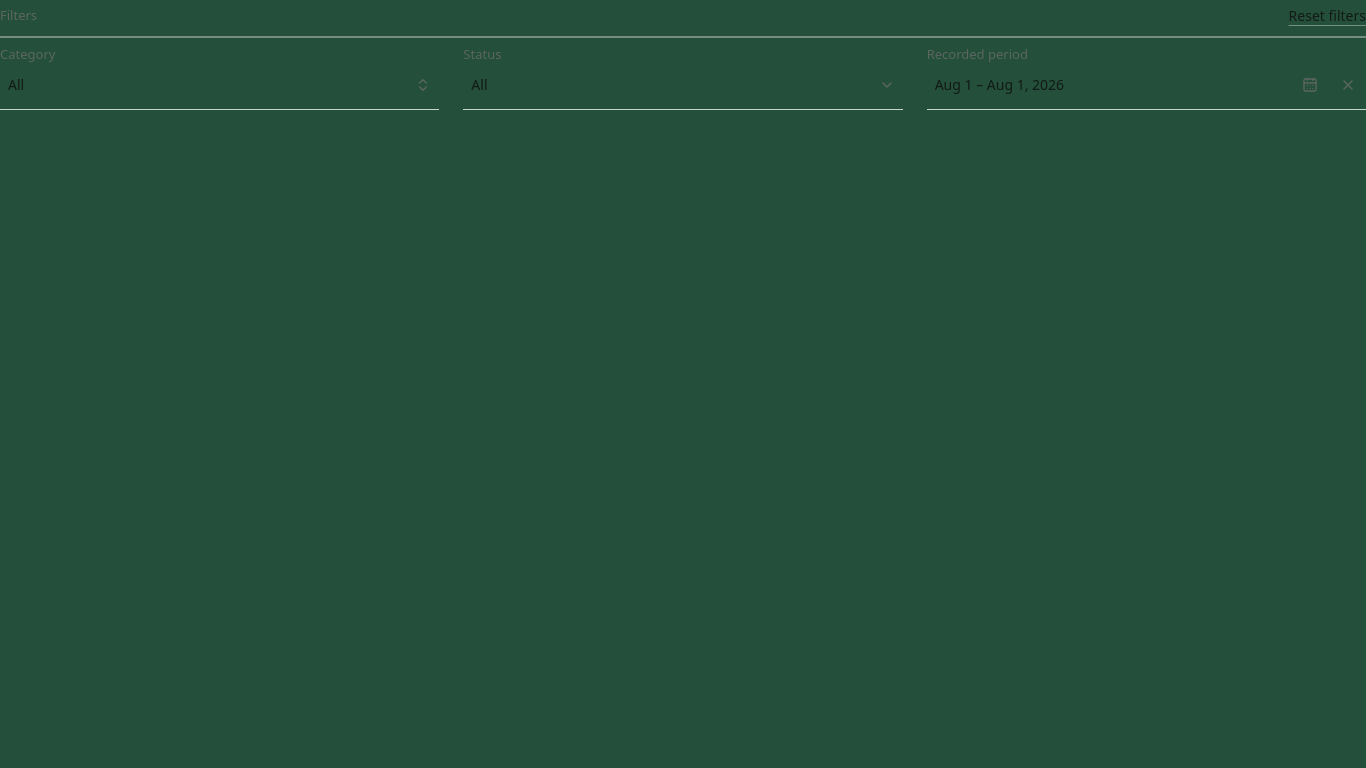
Test: the filter controls › closes the calendar and names the period it settled on
Click the button named "recorded period".
click(999, 84)  # box [927, 65, 1326, 105]
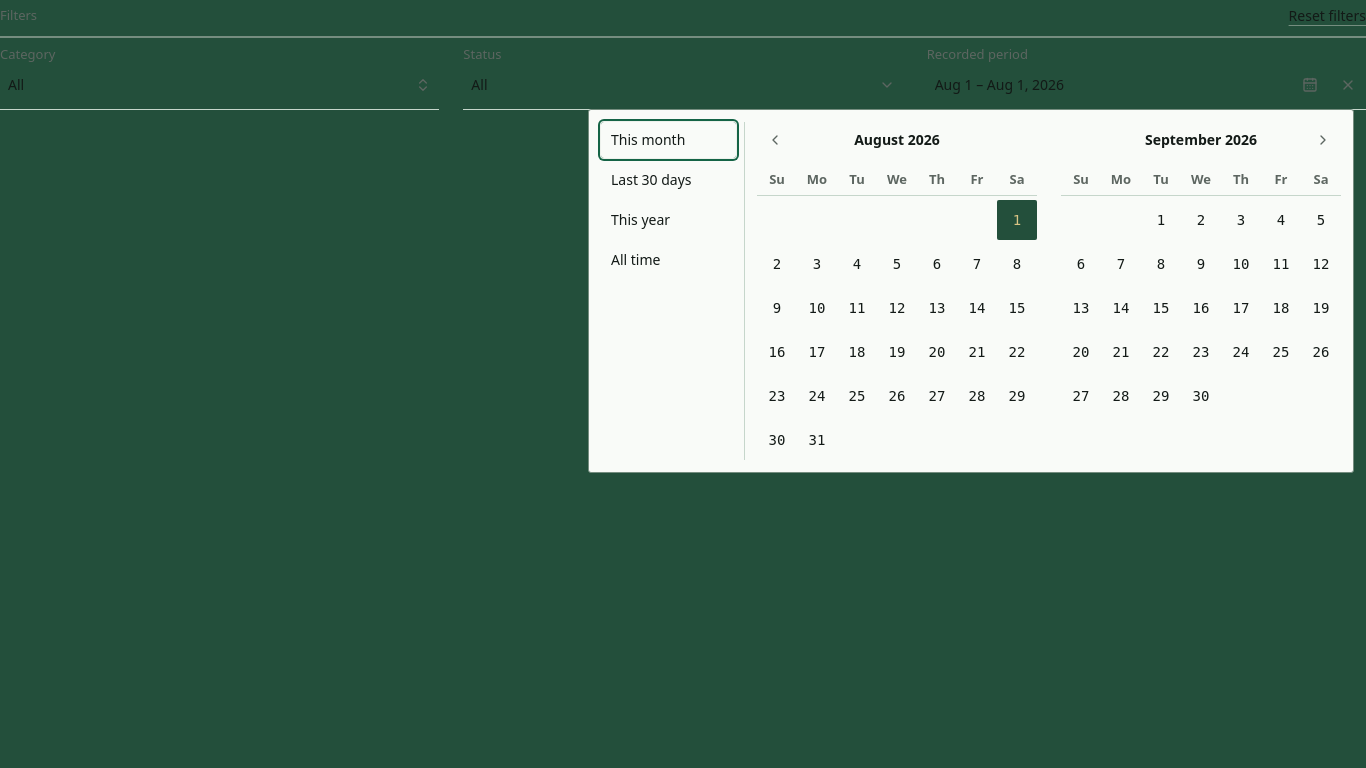
Click the button "10" below "August 2026".
click(817, 308)  # box [797, 288, 837, 328]
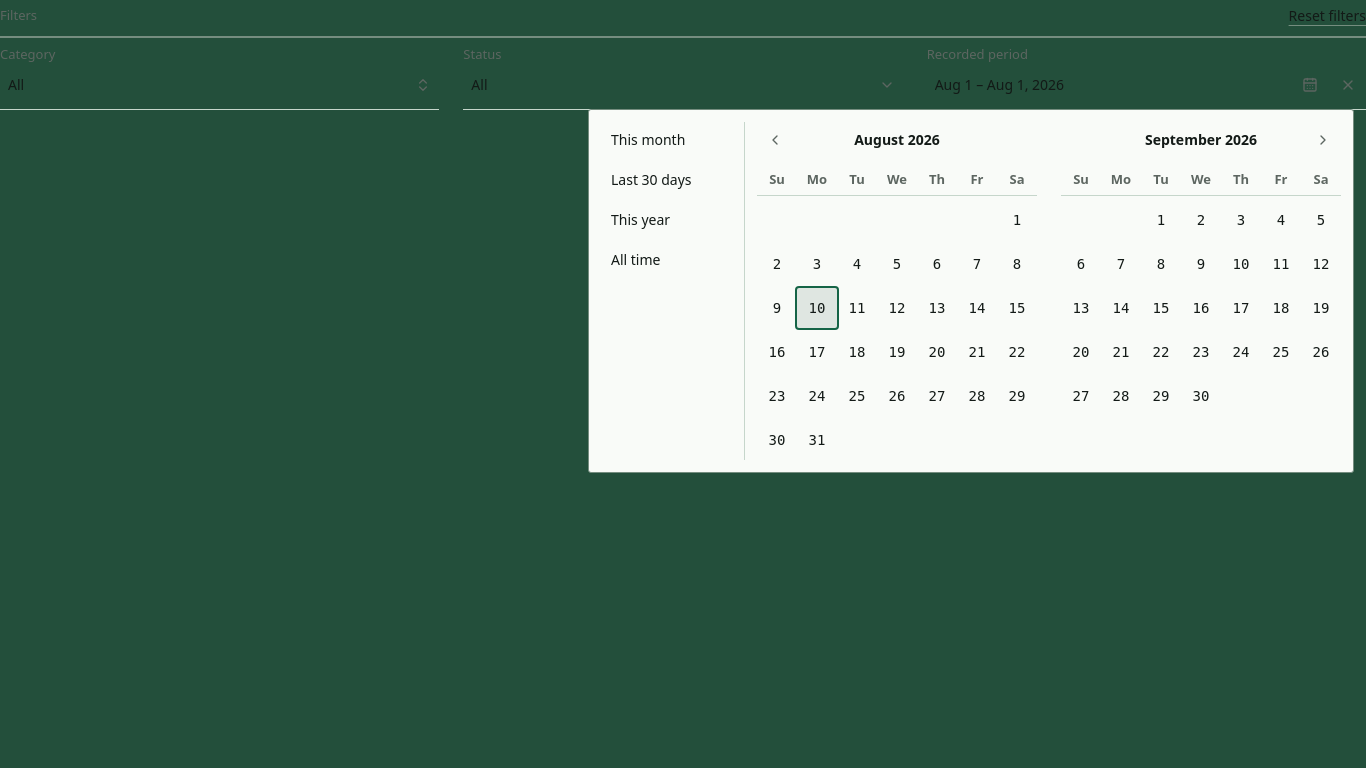
Click the button "20" below "August 2026".
click(937, 352)  # box [917, 332, 957, 372]
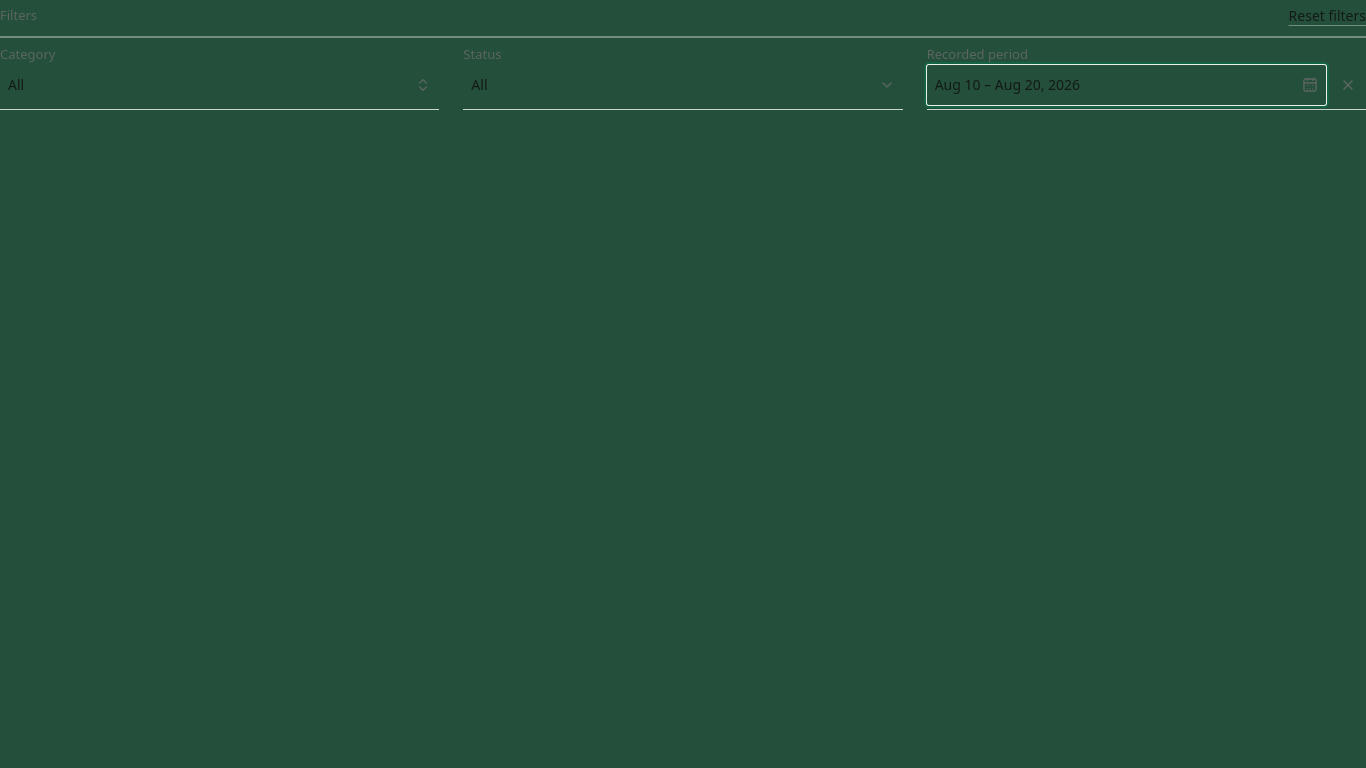
Expected: the button named "recorded period" reads "Aug 10 – Aug 20, 2026", [927, 65, 1326, 105]
